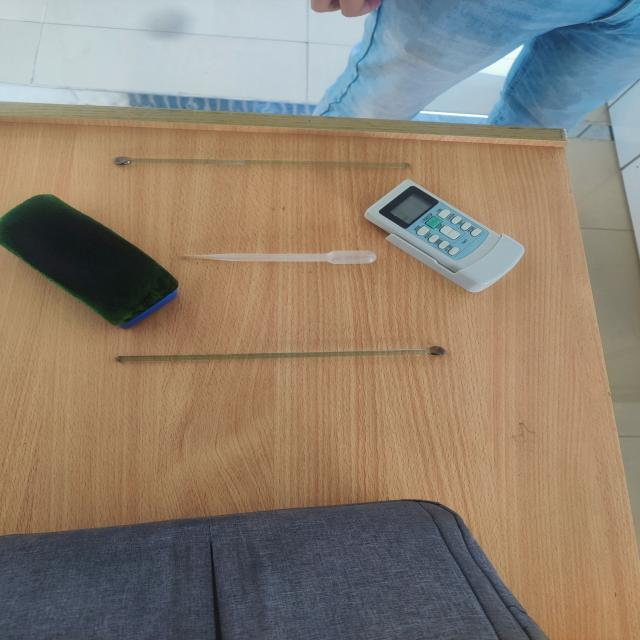Glass_Rod: (90, 140, 451, 200), (94, 328, 466, 380)
Pipette: (137, 227, 411, 284)
